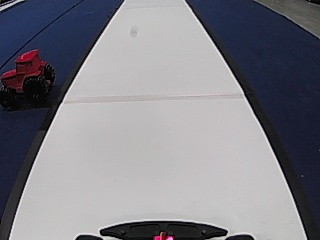tractor: (0, 47, 55, 110)
